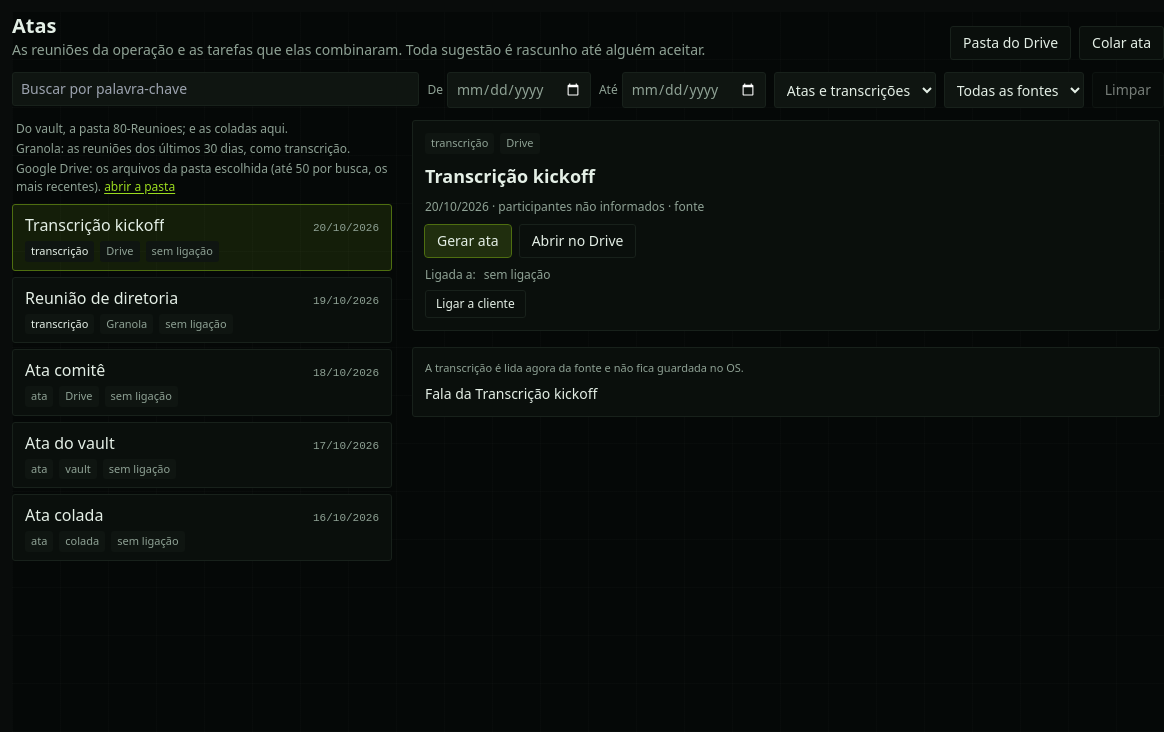
Test case: Atas: o Google Drive › a transcrição do Drive abre inteira, gera ata pela rota do Drive e abre no Drive
Expected: the element with test id "transcricao-texto" shows "Fala da Transcrição kickoff", [425,384,597,403]
Click the button "Gerar ata" at (468,240), box [425,224,511,256]
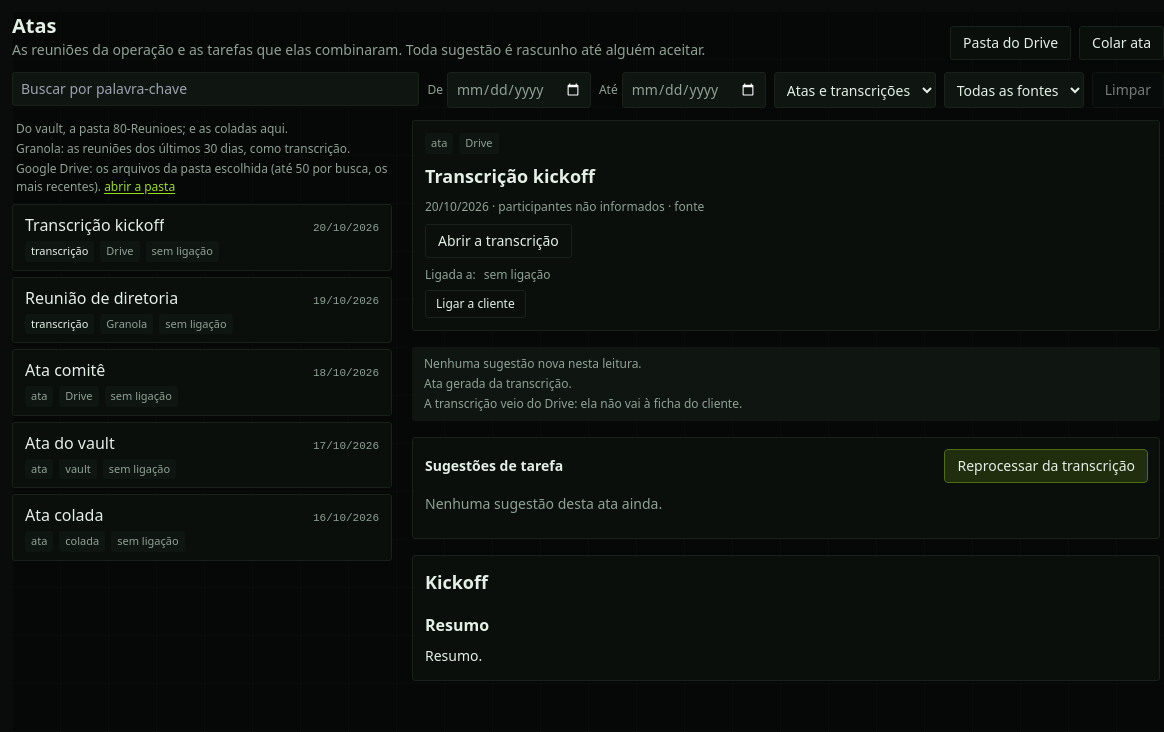
Now the list item "A transcrição veio do Drive: ela não vai à ficha do cliente." is shown, box [424,394,742,412]
Now the button with test id "ata-abrir-transcricao" is shown, box [425,224,572,258]
